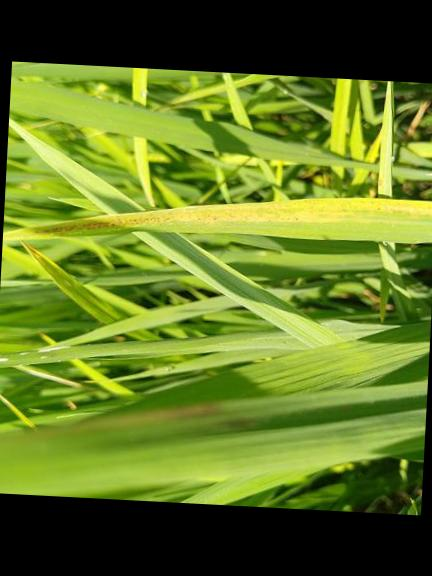Leaf Streak: (2, 197, 432, 238), (51, 399, 253, 443)
